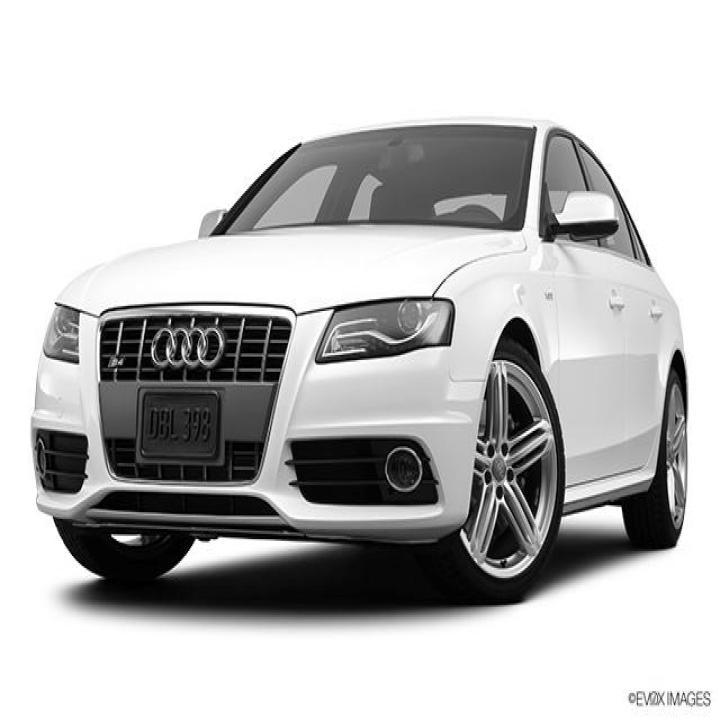car: (30, 115, 688, 603)
plat: (140, 390, 221, 461)
